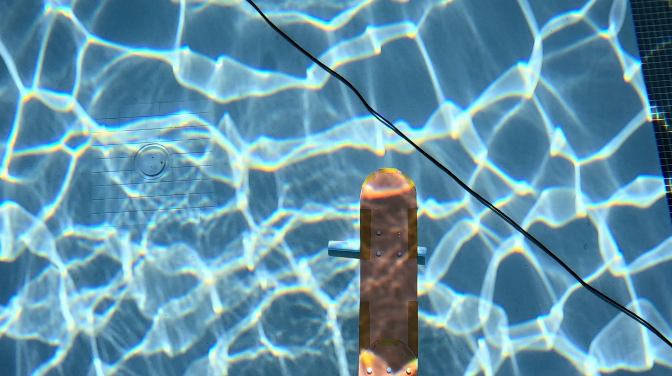pathmarker: (357, 168, 419, 375)
